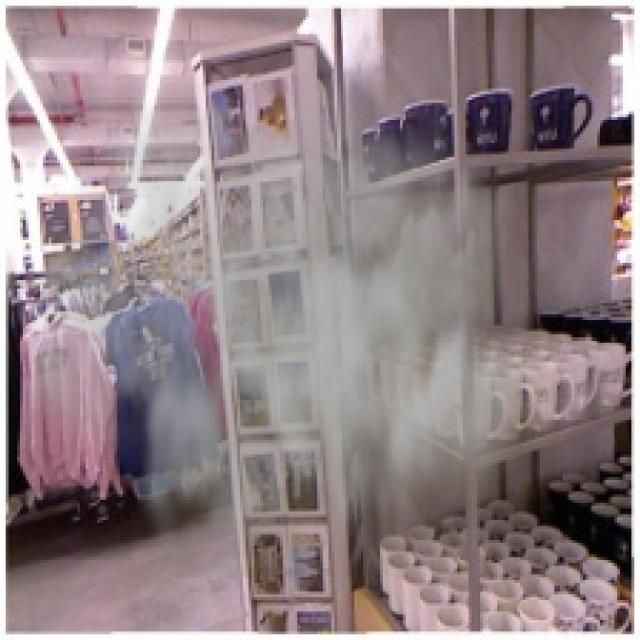smoke: (29, 37, 554, 577)
